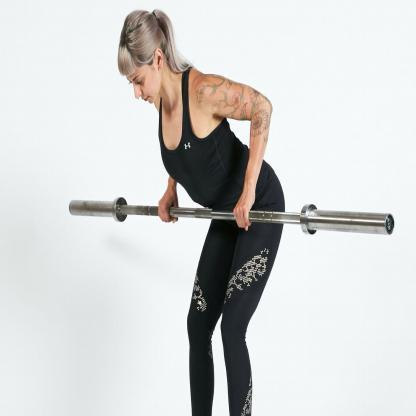Barbell: (381, 208, 402, 246)
